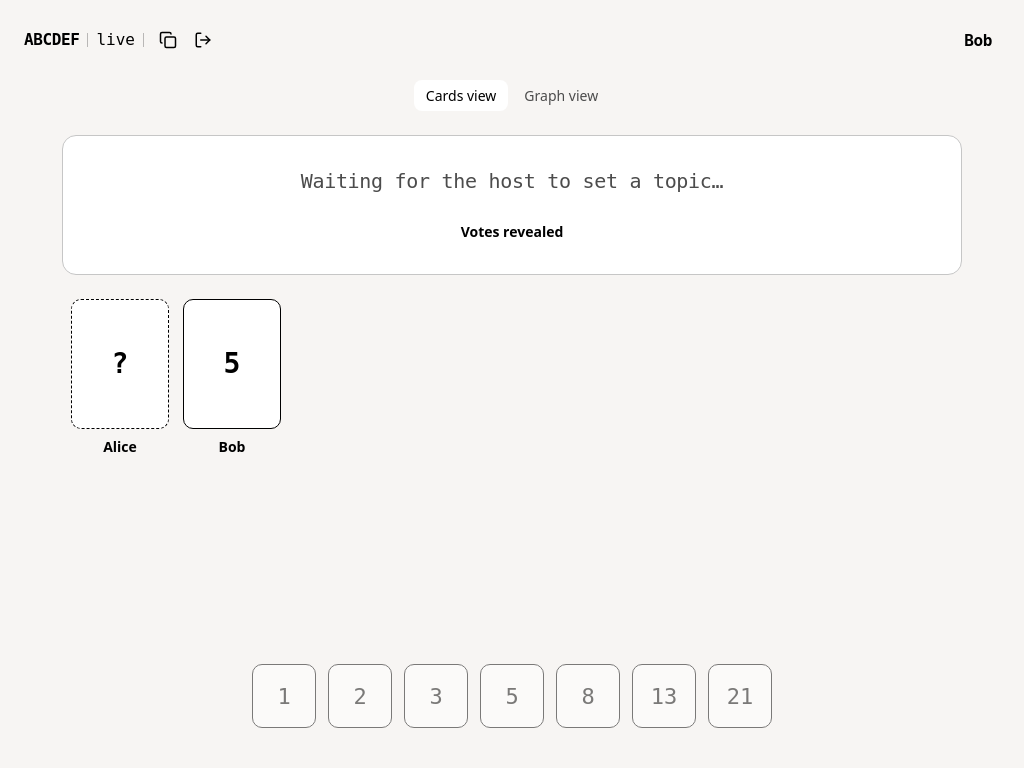
Test: Room (S9 wiring) › keeps the deck locked and moves results to the stats view once revealed
This screenshot has width=1024, height=768.
Expected: the element named "Your vote" is shown, x1=24 y1=648 x2=1000 y2=744
Expected: the button "1" is disabled, x1=252 y1=664 x2=316 y2=728
Click the tab "Graph view" at (561, 96), box x1=512 y1=80 x2=610 y2=111
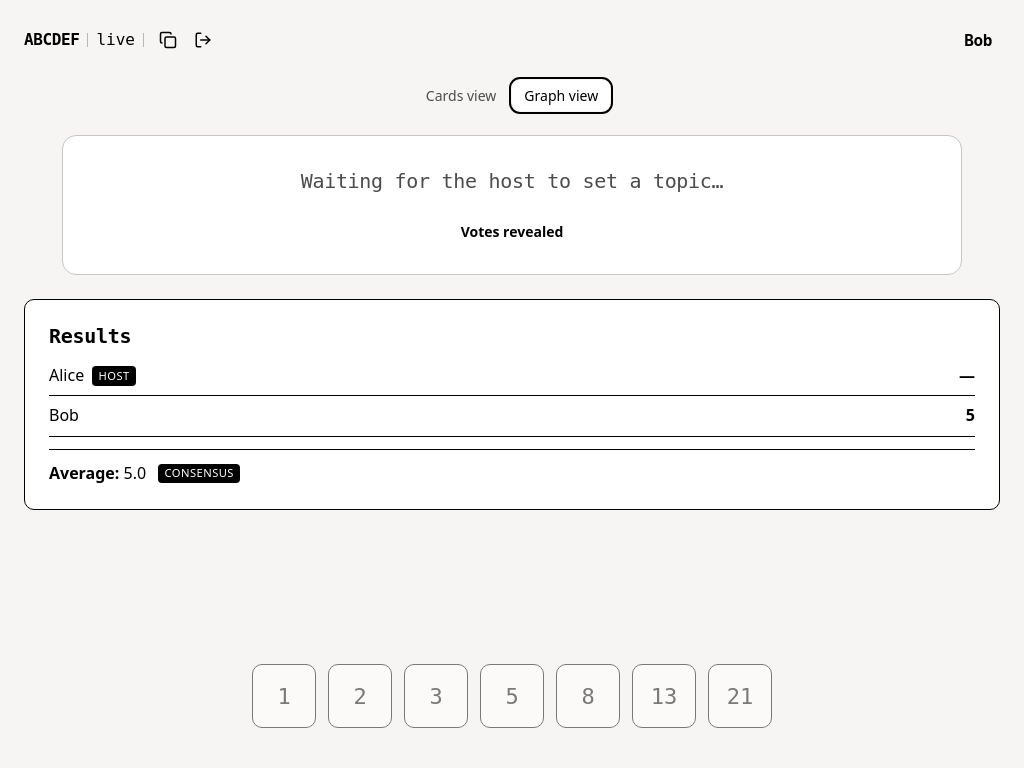
Expected: the heading "Results" is shown, x1=49 y1=324 x2=131 y2=348
